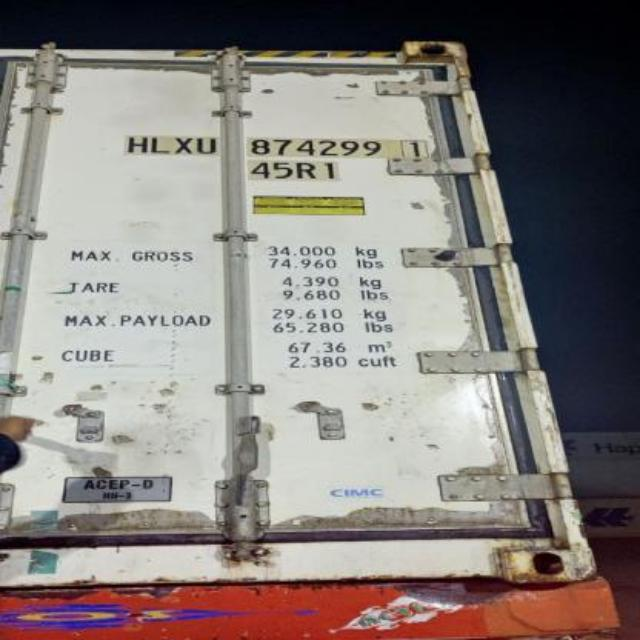1: (408, 141, 426, 157)
2: (317, 140, 338, 156)
4: (297, 140, 317, 156)
7: (272, 139, 292, 155)
8: (251, 140, 271, 154)
9: (364, 140, 378, 156), (341, 142, 357, 154)
H: (125, 137, 148, 153)
L: (151, 137, 171, 153)
U: (197, 137, 217, 153)
X: (173, 136, 193, 154)
